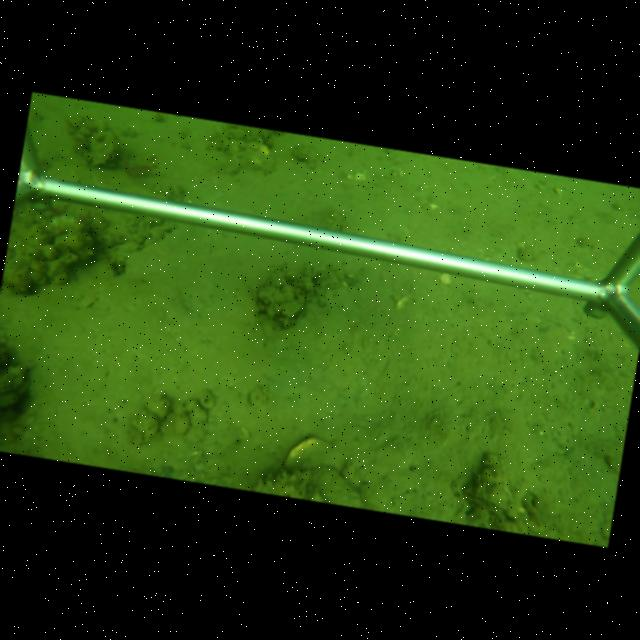Oyster-Closed: (281, 435, 336, 469), (279, 288, 310, 321)
Oyster-Indeterminate: (297, 465, 369, 508)
Oyster-Open: (87, 126, 122, 170)
